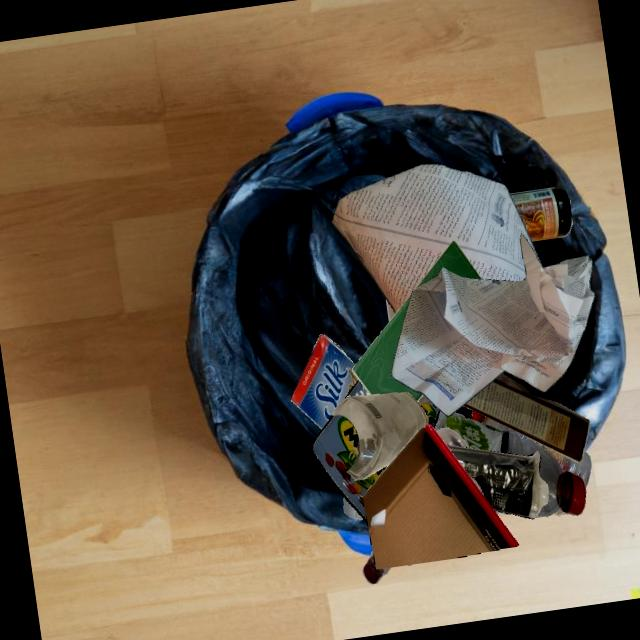cardboard: (362, 423, 520, 569), (463, 374, 590, 463), (291, 334, 359, 430)
glass: (332, 392, 427, 480), (510, 187, 572, 241), (470, 477, 483, 495), (386, 299, 396, 321), (418, 395, 433, 405)
paper: (391, 234, 595, 416), (332, 164, 542, 314), (352, 293, 424, 402), (414, 241, 482, 290)
plastic: (373, 447, 464, 564), (472, 410, 592, 488), (434, 410, 554, 475), (446, 445, 548, 519), (536, 457, 586, 517), (344, 496, 365, 520)
trash: (312, 415, 390, 523), (395, 405, 480, 486), (344, 400, 395, 480)
